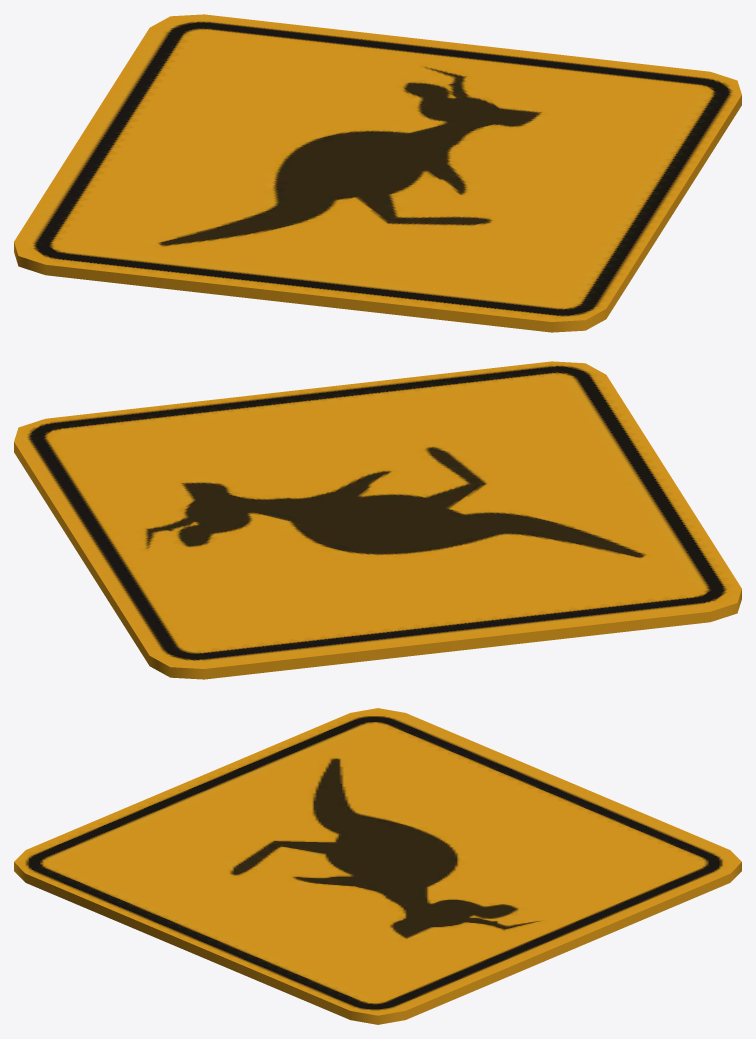
The model's file is Sign_Relic.fbx.
3 renders of one model, top to bottom at view 1: azimuth 30°, elevation 25°; view 2: azimuth 150°, elevation 25°; view 3: azimuth 270°, elevation 25°, orthographic. The views are drawn at different scales.
Parts seen in each view (by area): view 1: Relic_CD; view 2: Relic_CD; view 3: Relic_CD.
Part boxes in pixels (<box>): Relic_CD: <box>14,14,741,332</box>; Relic_CD: <box>14,361,741,679</box>; Relic_CD: <box>14,708,741,1024</box>.
Size of the model in its own units: 1.91 by 0.0267 by 1.91.
